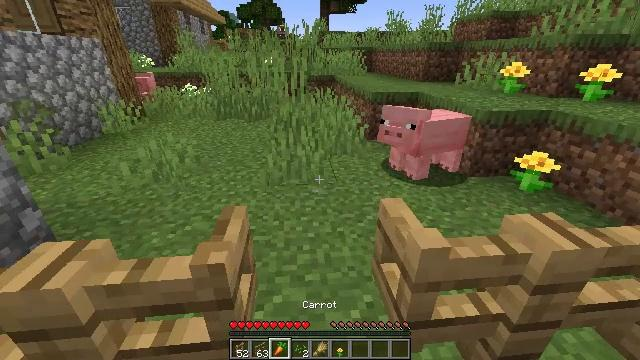pig: (378, 104, 470, 181)
